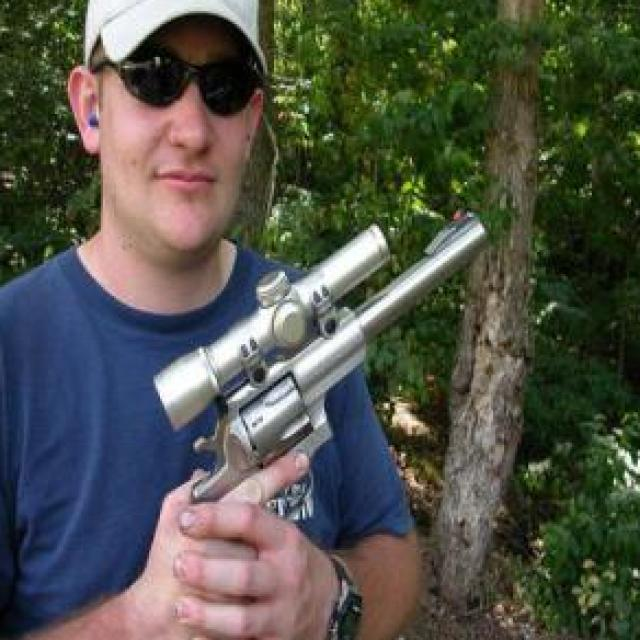pistol: (188, 204, 489, 528)
